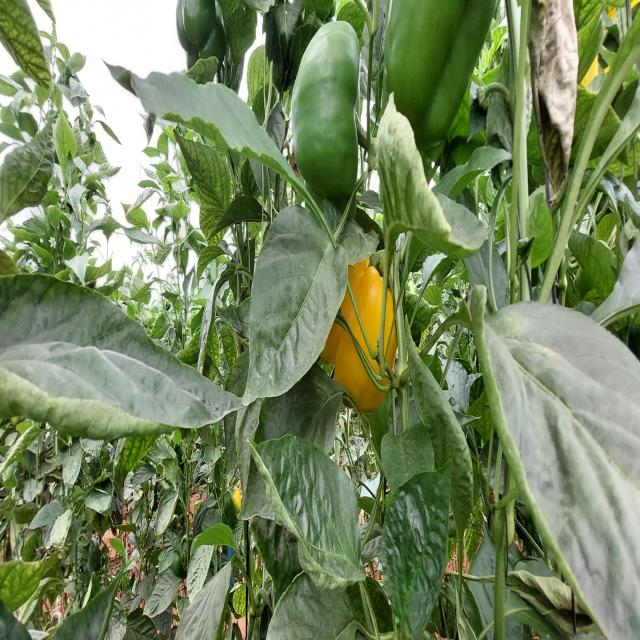Green--Not-ready-to-harvest: (379, 0, 490, 117), (298, 27, 365, 194)
GreenishYellow--Can-be-Harvested: (298, 229, 422, 446)
